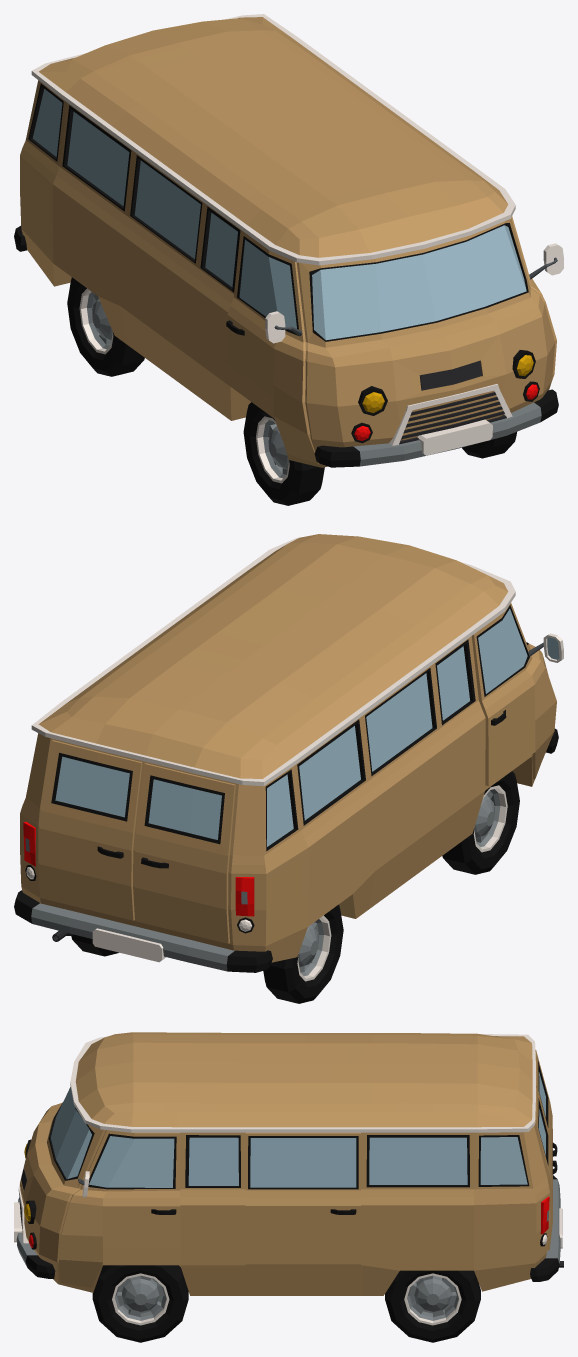
Rendered from van_1_black.fbx.
The picture shows the model from 3 angles, top to bottom: view 1: azimuth 30°, elevation 25°; view 2: azimuth 150°, elevation 25°; view 3: azimuth 270°, elevation 25°; orthographic projection. The views are drawn at different scales.
Parts seen in each view (by area): view 1: Front_Left_Wheel; view 2: Front_Left_Wheel; view 3: Front_Left_Wheel.
Boxes of the visible parts, <box> form: Front_Left_Wheel: <box>14,14,563,505</box>; Front_Left_Wheel: <box>14,534,563,1003</box>; Front_Left_Wheel: <box>14,1032,563,1342</box>.
Size of the model in its own units: 230 by 212 by 446.
1 material, 1 textured.
